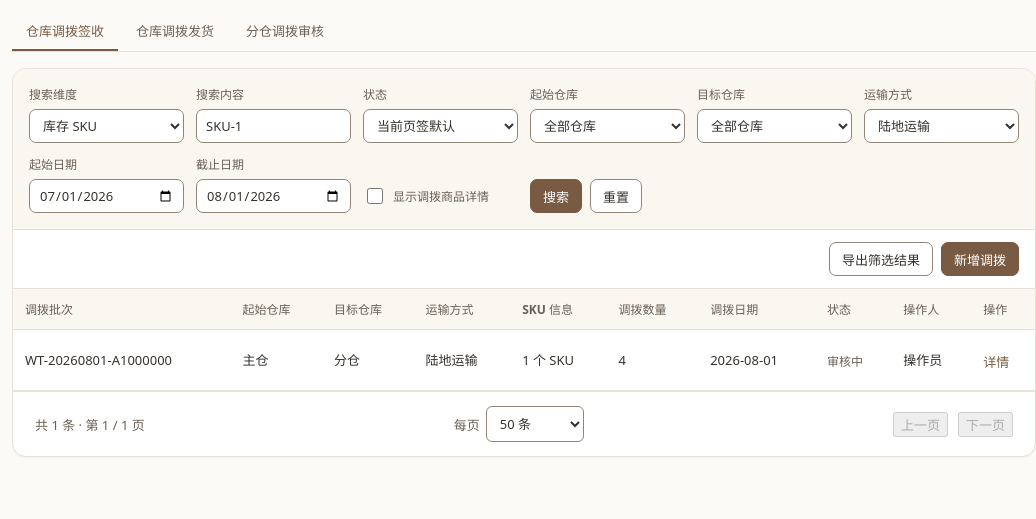
WarehouseTransferPage › downloads the current receipt queue and announces success
Expected: the text "WT-20260801-A1000000" is shown, [13,330,230,390]
Click the button "导出筛选结果": point(881, 259) [829,242,933,276]
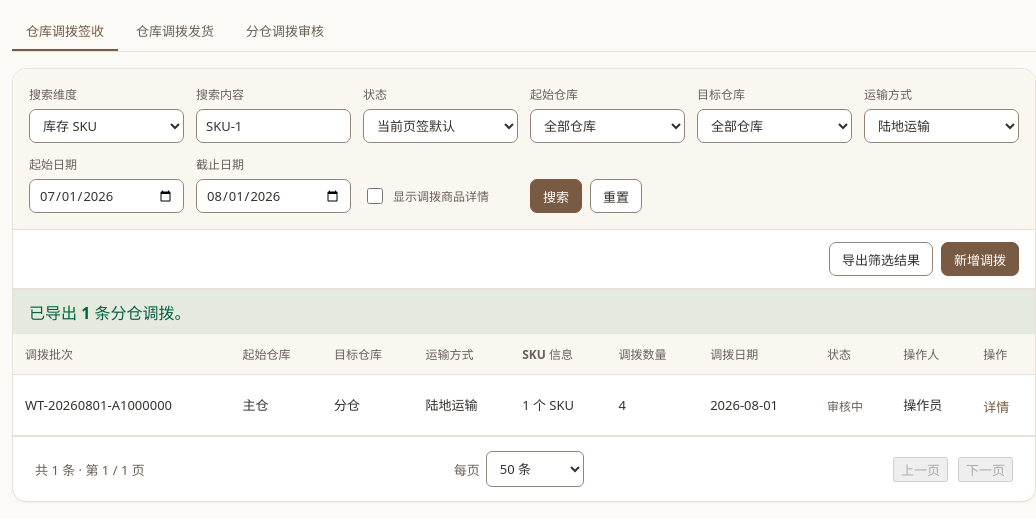
Result: the text "已导出 1 条分仓调拨。" is shown at [13,289,1035,334]
